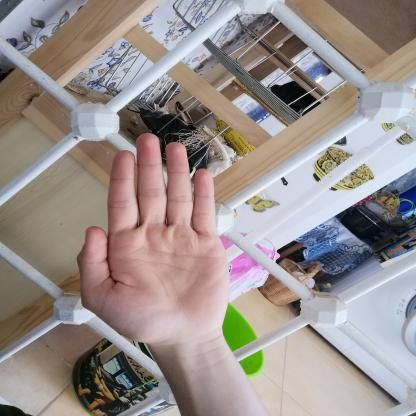SEEN: (64, 124, 246, 355)
